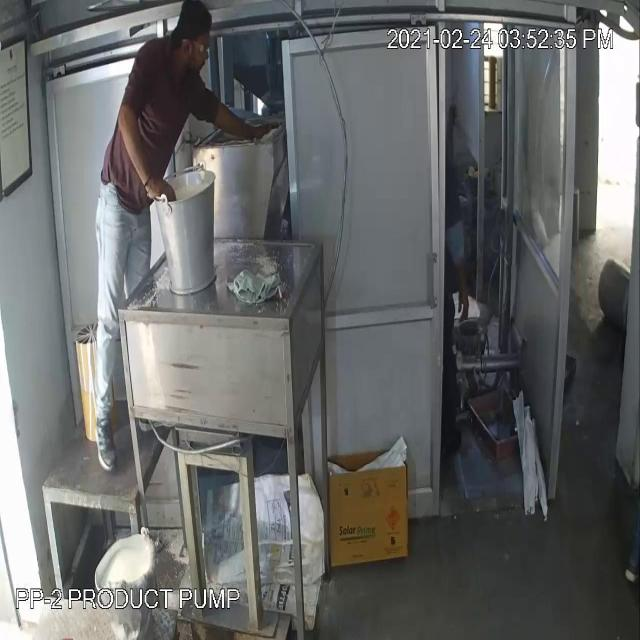no-helmet: (163, 1, 227, 55)
